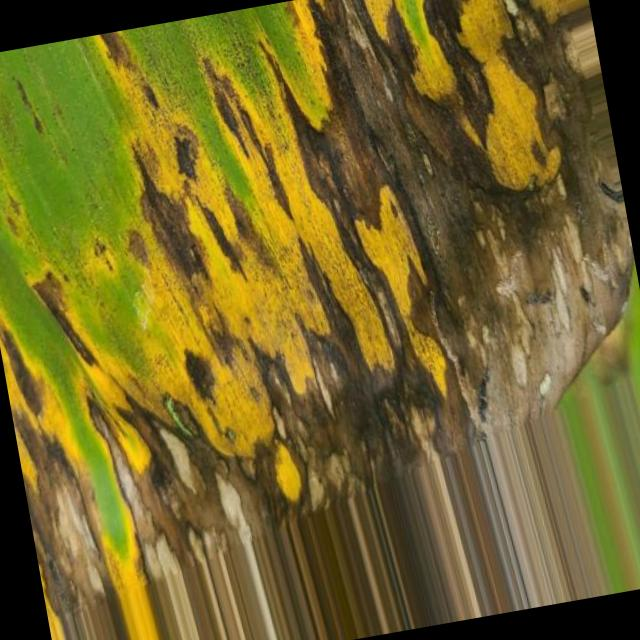Banana_Black_Sigatoka: (214, 0, 640, 405), (0, 153, 419, 561)
